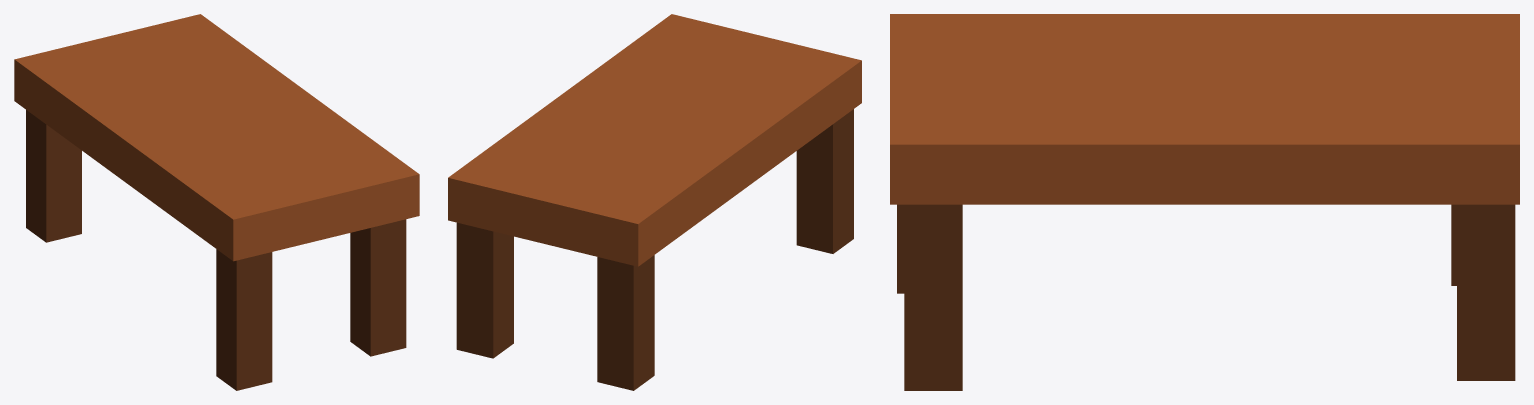
File: pöytä.fbx
3 views of the same model, side by side, from view 1: azimuth 30°, elevation 25°; view 2: azimuth 150°, elevation 25°; view 3: azimuth 270°, elevation 25° (orthographic). The views are drawn at different scales.
Visible parts, largest first — view 1: Cube; view 2: Cube; view 3: Cube.
Part boxes in pixels (x1,y1,x2,y2): Cube: [14, 14, 419, 390]; Cube: [448, 14, 861, 390]; Cube: [890, 14, 1519, 390].
Size of the model in its own units: 98.18 by 88.34 by 200.
